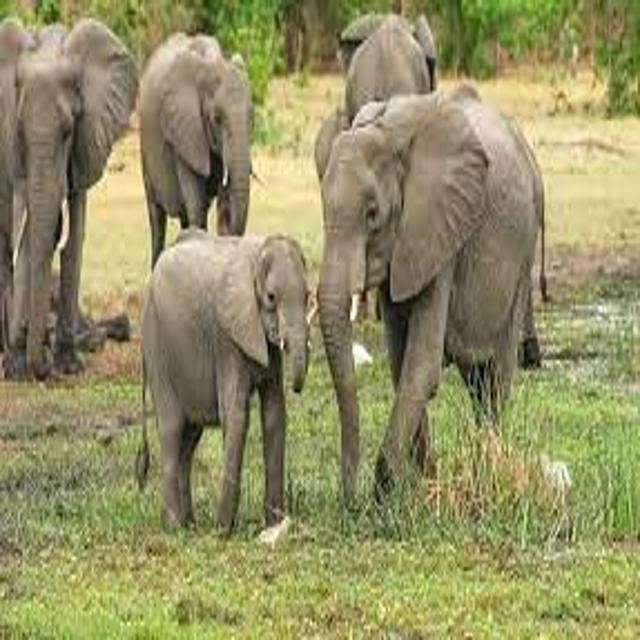elephant: (281, 63, 568, 538), (116, 209, 331, 566), (3, 2, 174, 399), (117, 15, 277, 289)
